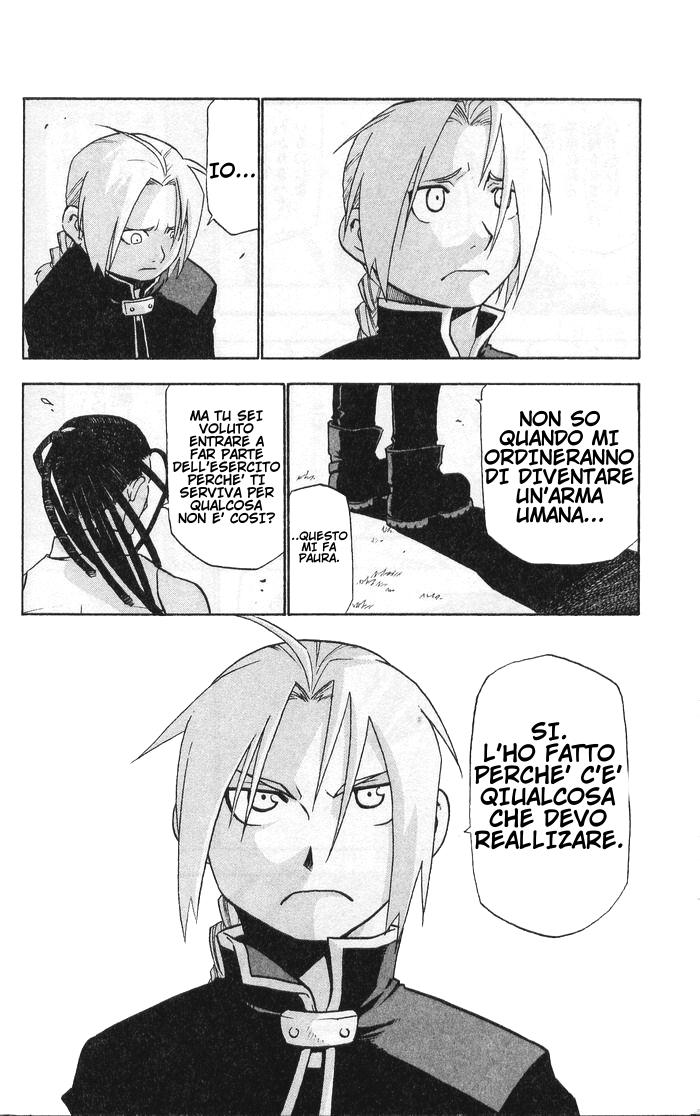Baloon: (471, 654, 630, 943), (476, 384, 638, 565), (162, 384, 282, 572), (286, 484, 355, 620), (204, 96, 257, 238)
Vignetta: (6, 623, 685, 1116), (257, 96, 643, 357), (289, 384, 642, 618), (23, 99, 259, 360), (21, 384, 284, 615)
